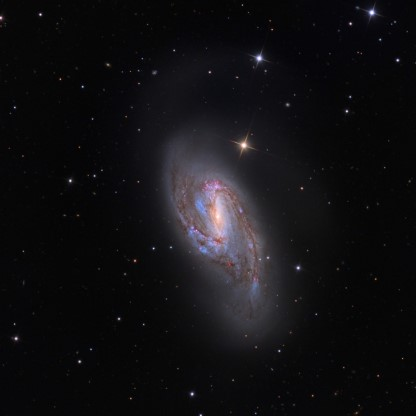Messier 66: (150, 120, 299, 356)
